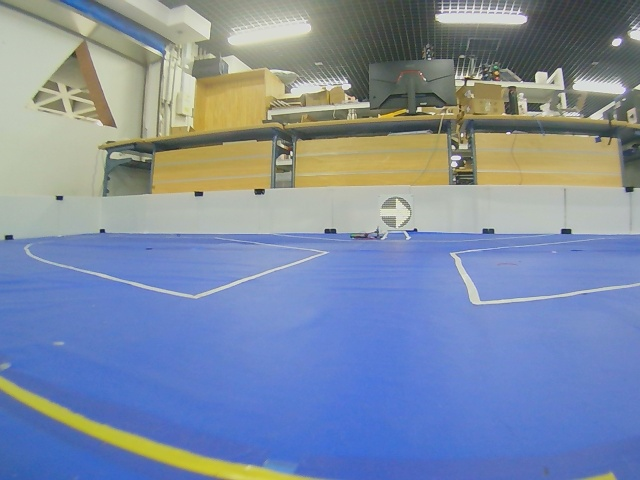right_yellow: (380, 196, 412, 229)
